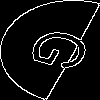G: (25, 25, 100, 79)
